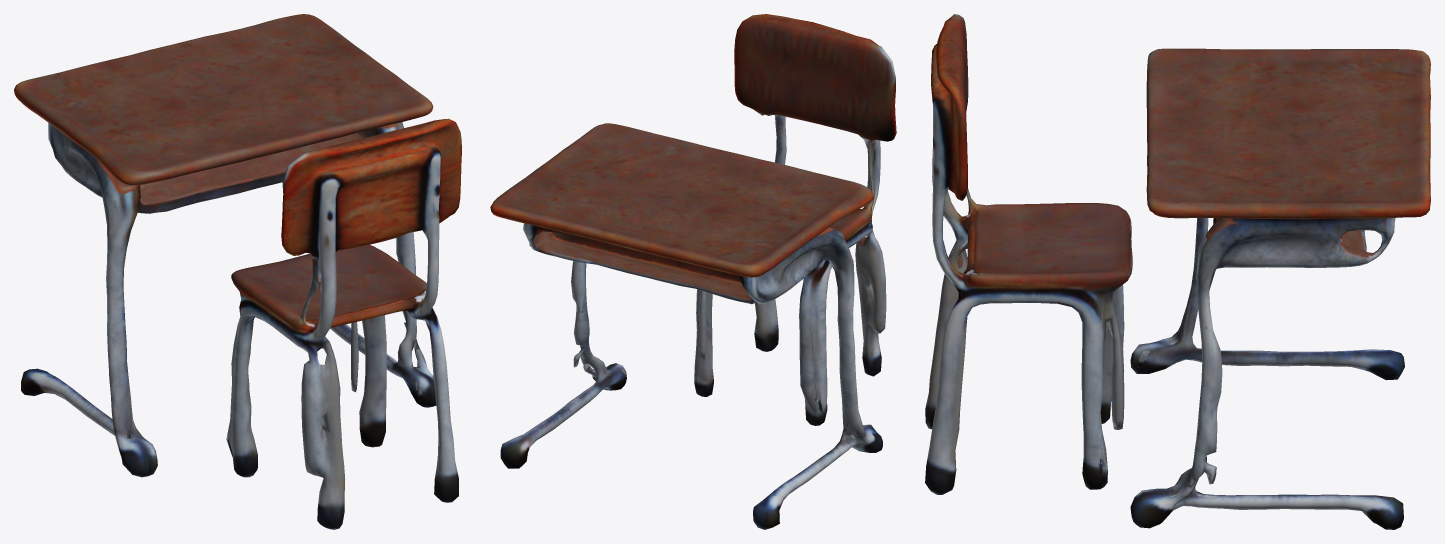
Rendered from school_desk.fbx.
3 renders of one model, left to right at view 1: azimuth 30°, elevation 25°; view 2: azimuth 150°, elevation 25°; view 3: azimuth 270°, elevation 25°, orthographic. The views are drawn at different scales.
Parts seen in each view (by area): view 1: mesh; view 2: mesh; view 3: mesh.
Boxes of the visible parts, x1,y1,x2,y2 form: mesh: (14,14,461,529); mesh: (490,14,896,529); mesh: (925,14,1430,529).
Bounding box in the file's own units: 77.98 × 89.19 × 99.78.
